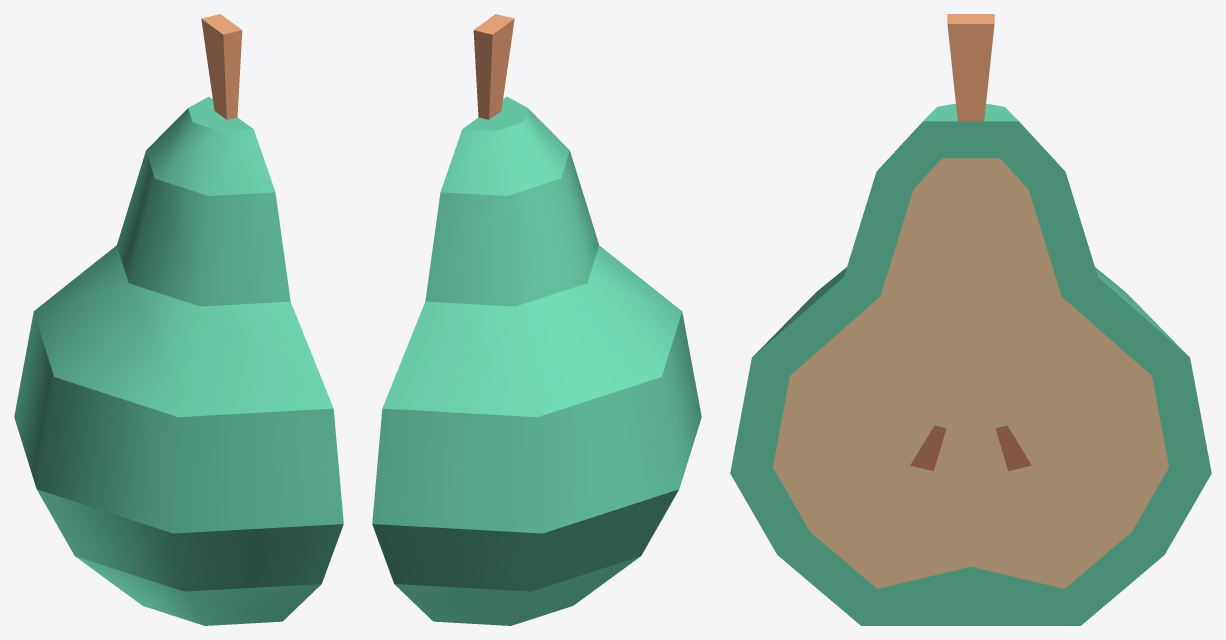
File: pearHalf.obj
3 views of the same model, side by side, from view 1: azimuth 30°, elevation 25°; view 2: azimuth 150°, elevation 25°; view 3: azimuth 270°, elevation 25° (orthographic). The views are drawn at different scales.
Visible parts, largest first — view 1: pearHalf; view 2: pearHalf; view 3: pearHalf.
Part boxes in pixels (box(x1,y1,x2,y2)): pearHalf: box(14, 14, 343, 625); pearHalf: box(372, 14, 701, 625); pearHalf: box(730, 14, 1211, 625).
Bounding box in the file's own units: 0.0981 × 0.2708 × 0.1963.
